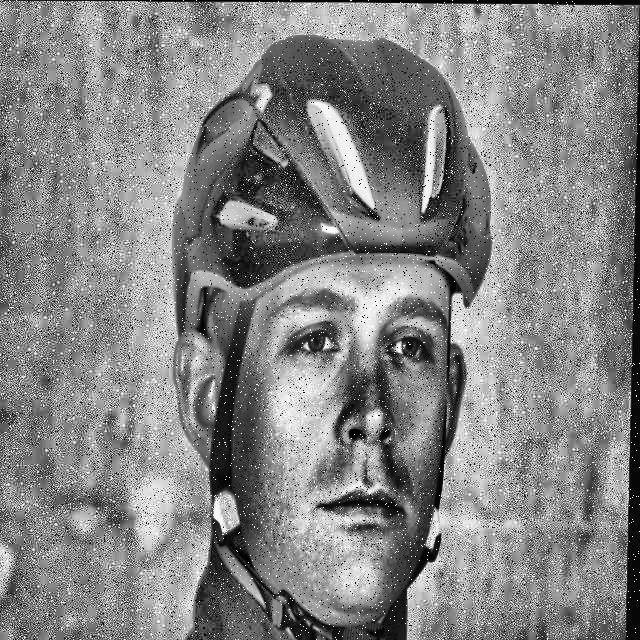Helmet: (156, 17, 507, 640)
